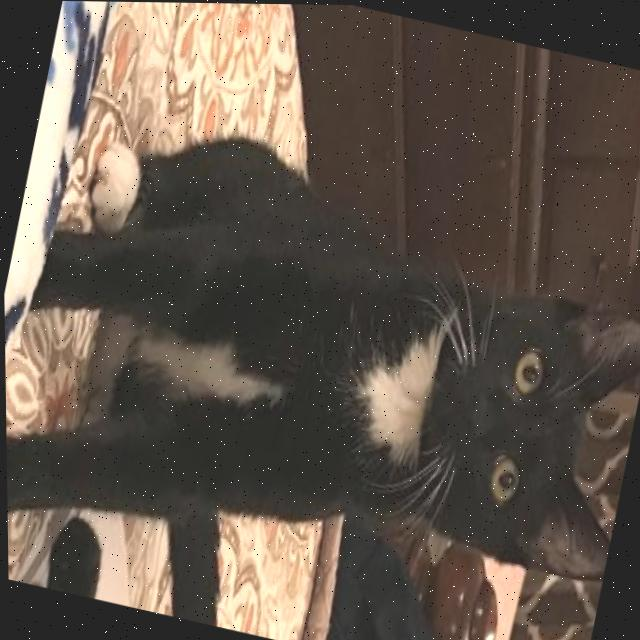Tuxedo: (1, 96, 640, 640)
